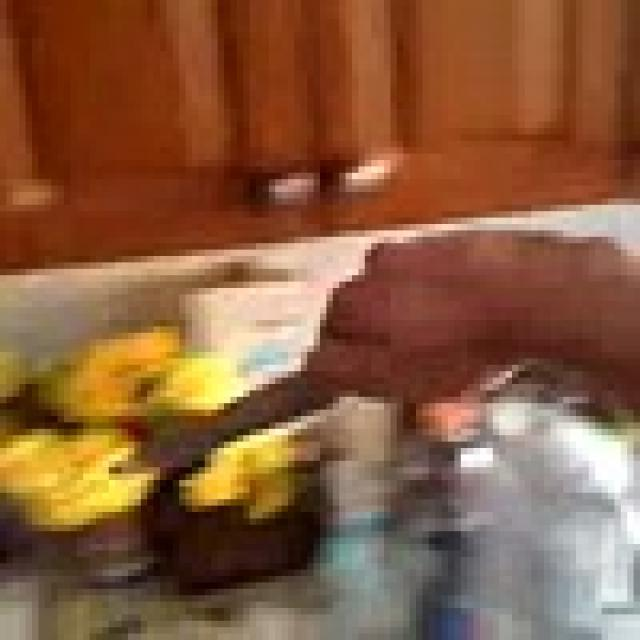Knife: (115, 372, 358, 486)
